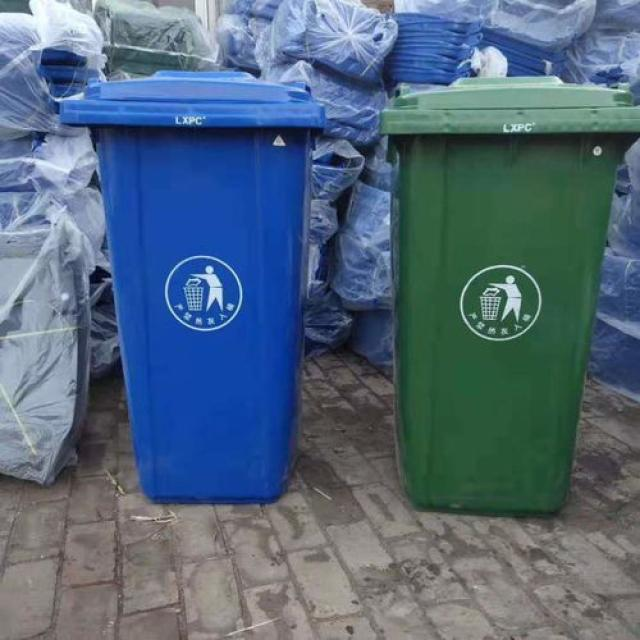garbage_bin: (58, 70, 325, 502), (378, 75, 638, 516)
